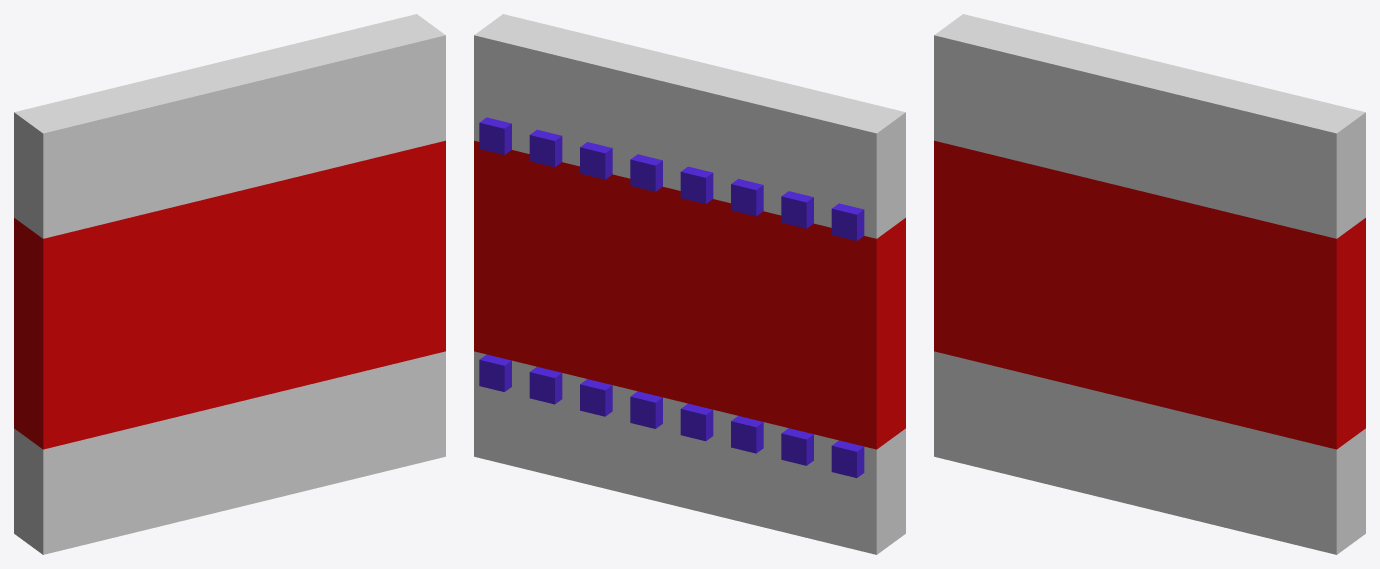
The model's file is SM_Wall4x4stripe_a.fbx.
3 views of the same model, side by side, from view 1: azimuth 30°, elevation 25°; view 2: azimuth 150°, elevation 25°; view 3: azimuth 330°, elevation 25° (orthographic).
Visible parts, largest first — view 1: Wall4x4stripe_a; view 2: Wall4x4stripe_a; view 3: Wall4x4stripe_a.
Boxes of the visible parts, left/top/right/bottom form: Wall4x4stripe_a: left=14, top=14, right=445, bottom=554; Wall4x4stripe_a: left=474, top=14, right=905, bottom=554; Wall4x4stripe_a: left=934, top=14, right=1365, bottom=554.
Bounding box in the file's own units: 400 × 400 × 62.5.
